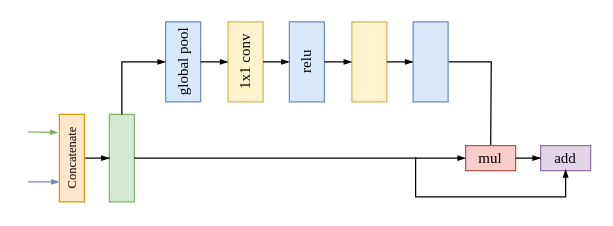
The diagram is 613 pixels wide and 226 high, and some of its shapes have lost their labels. Each missing label, with the centre of its shape:
1x1 down: [369,61]
conv+bn+relu: [121,157]
sigmoid: [430,61]
